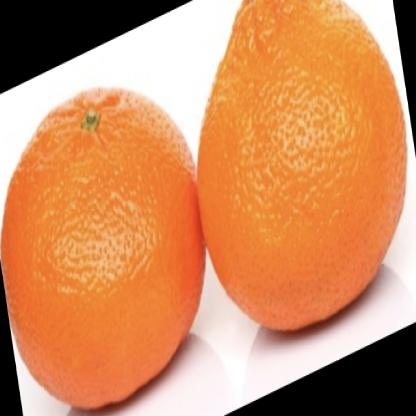orange: (3, 57, 202, 406)
